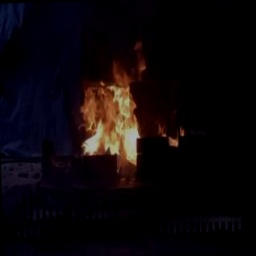fire: (72, 36, 151, 165)
